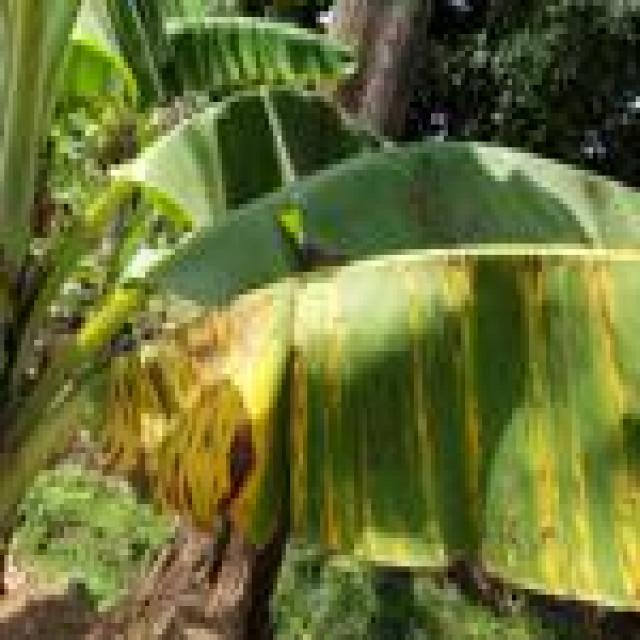Early_rust: (81, 227, 640, 600)
